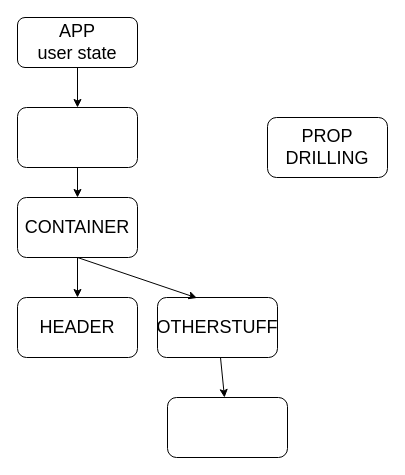
Image size: 405x475. Some labels were removed from this diagram. Each missing label, with the box of its shape:
LAYOUT: (16, 106, 138, 168)
USERINFO: (166, 396, 288, 458)
